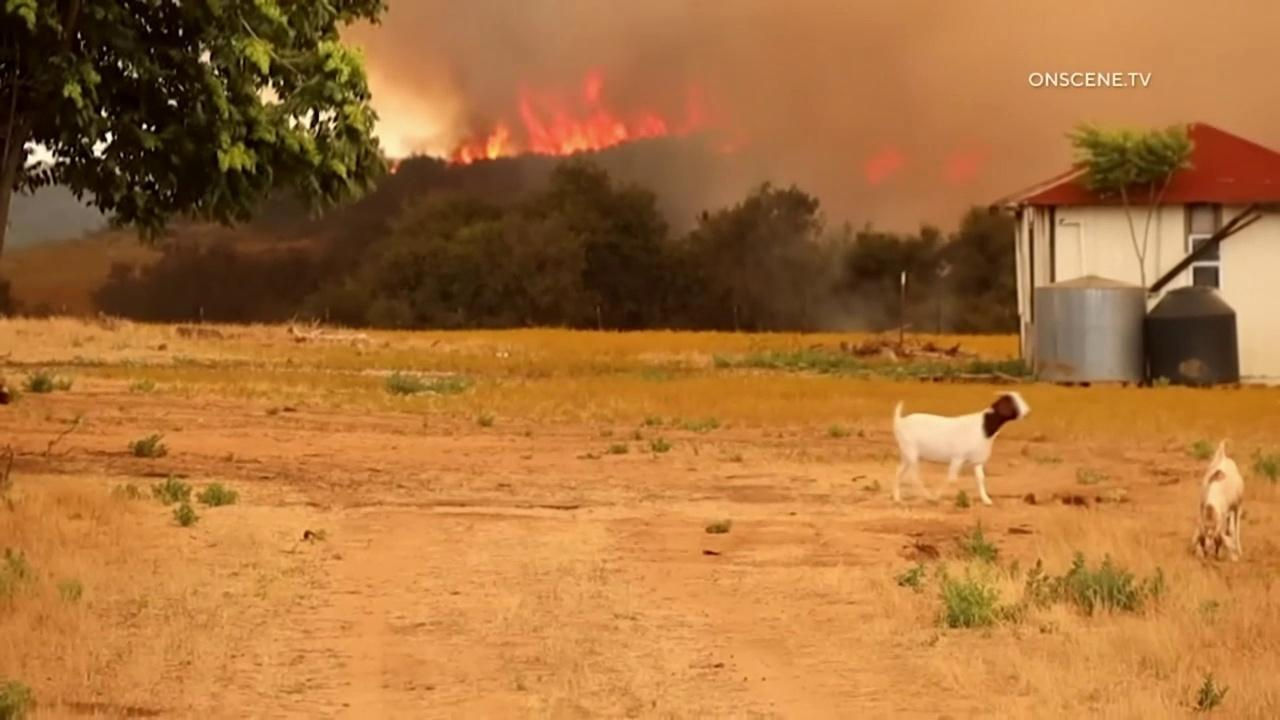fire: (448, 65, 746, 167), (864, 147, 906, 185), (945, 150, 988, 184), (389, 165, 398, 175)
smoke: (338, 0, 1280, 250)
